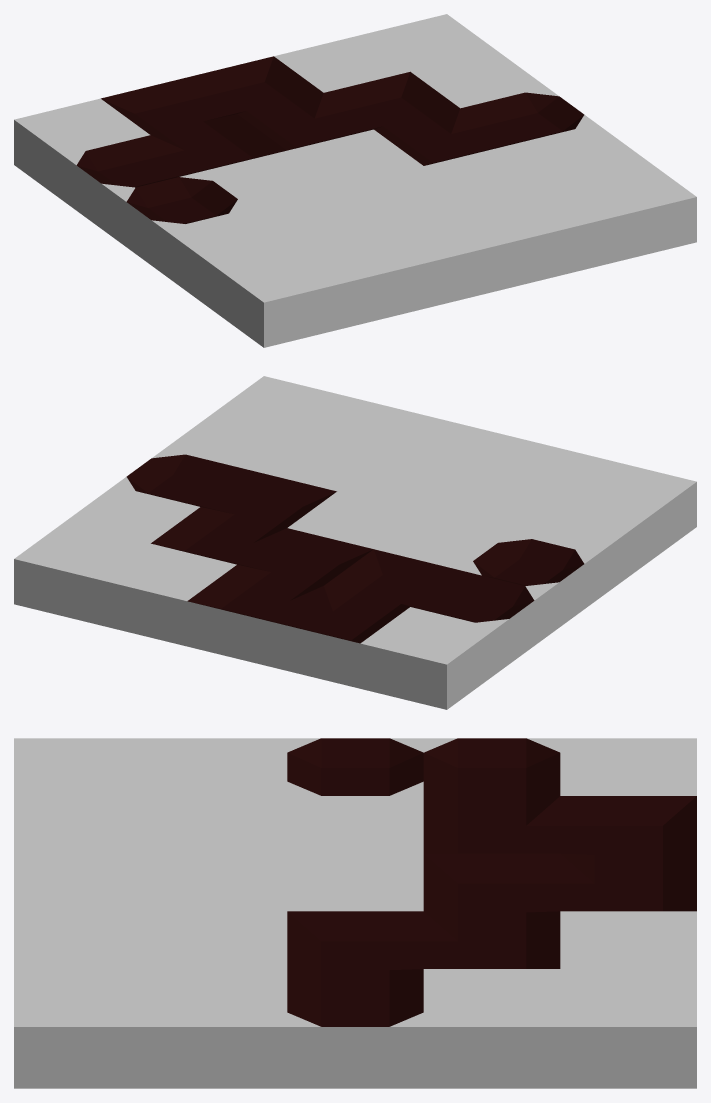
3 views of the same model, one above another, from view 1: azimuth 30°, elevation 25°; view 2: azimuth 150°, elevation 25°; view 3: azimuth 270°, elevation 25° (orthographic). The views are drawn at different scales.
Parts seen in each view (by area): view 1: block.0.0_block.10915, block.3.0_block.10925, block.1.0_block.10919, block.4.0_block.10928, block.2.0_block.10922, block.0.2_Cube.025, block.0.4_block.10918, block.0.1_block.10916, ending.0.3_ending.1285, corner.3.3_corner.3221, corner.2.4_corner.3219, ending.4.2_ending.1286 (+13 smaller); view 2: block.0.4_block.10918, block.3.4_block.10927, block.4.4_block.10931, corner.2.4_corner.3219, corner.1.4_corner.3217, block.0.0_block.10915, block.0.1_block.10916, block.0.2_Cube.025, ending.0.3_ending.1285, corner.1.3_corner.3216, ending.4.2_ending.1286, corner.2.3_corner.3218 (+13 smaller); view 3: block.4.1_block.10929, block.4.3_block.10930, block.4.0_block.10928, block.4.4_block.10931, ending.4.2_ending.1286, corner.2.3_corner.3218, ending.0.3_ending.1285, corner.3.2_corner.3220, corner.1.4_corner.3217, block.2.1_block.10923, block.2.0_block.10922, block.2.2_block.10924 (+13 smaller).
Part boxes in pixels (x1=…): block.0.0_block.10915: x1=214, y1=245, x2=350, y2=347; block.3.0_block.10925: x1=474, y1=181, x2=610, y2=284; block.1.0_block.10919: x1=301, y1=224, x2=437, y2=326; block.4.0_block.10928: x1=560, y1=160, x2=696, y2=263; block.2.0_block.10922: x1=387, y1=202, x2=523, y2=305; block.0.2_Cube.025: x1=114, y1=172, x2=249, y2=274; block.0.4_block.10918: x1=14, y1=98, x2=149, y2=201; block.0.1_block.10916: x1=164, y1=208, x2=299, y2=310; ending.0.3_ending.1285: x1=64, y1=135, x2=198, y2=237; corner.3.3_corner.3221: x1=324, y1=71, x2=459, y2=135; corner.2.4_corner.3219: x1=187, y1=56, x2=323, y2=119; ending.4.2_ending.1286: x1=460, y1=87, x2=596, y2=146; block.0.4_block.10918: x1=360, y1=607, x2=496, y2=709; block.3.4_block.10927: x1=100, y1=543, x2=236, y2=646; block.4.4_block.10931: x1=14, y1=522, x2=150, y2=625; corner.2.4_corner.3219: x1=187, y1=565, x2=323, y2=667; corner.1.4_corner.3217: x1=273, y1=586, x2=409, y2=688; block.0.0_block.10915: x1=561, y1=460, x2=696, y2=563; block.0.1_block.10916: x1=510, y1=497, x2=646, y2=599; block.0.2_Cube.025: x1=461, y1=534, x2=596, y2=636; ending.0.3_ending.1285: x1=413, y1=570, x2=546, y2=672; corner.1.3_corner.3216: x1=324, y1=549, x2=459, y2=612; ending.4.2_ending.1286: x1=114, y1=449, x2=250, y2=508; corner.2.3_corner.3218: x1=237, y1=528, x2=373, y2=591; block.4.1_block.10929: x1=150, y1=969, x2=287, y2=1088; block.4.3_block.10930: x1=423, y1=969, x2=560, y2=1088; block.4.0_block.10928: x1=14, y1=969, x2=150, y2=1088; block.4.4_block.10931: x1=560, y1=969, x2=696, y2=1088; ending.4.2_ending.1286: x1=287, y1=969, x2=423, y2=1088; corner.2.3_corner.3218: x1=423, y1=853, x2=560, y2=926; ending.0.3_ending.1285: x1=423, y1=738, x2=560, y2=811; corner.3.2_corner.3220: x1=287, y1=911, x2=423, y2=984; corner.1.4_corner.3217: x1=560, y1=796, x2=696, y2=868; block.2.1_block.10923: x1=150, y1=853, x2=287, y2=911; block.2.0_block.10922: x1=14, y1=853, x2=150, y2=911; block.2.2_block.10924: x1=287, y1=853, x2=423, y2=911.
Bounding box in the file's own units: 10 × 1 × 10.
